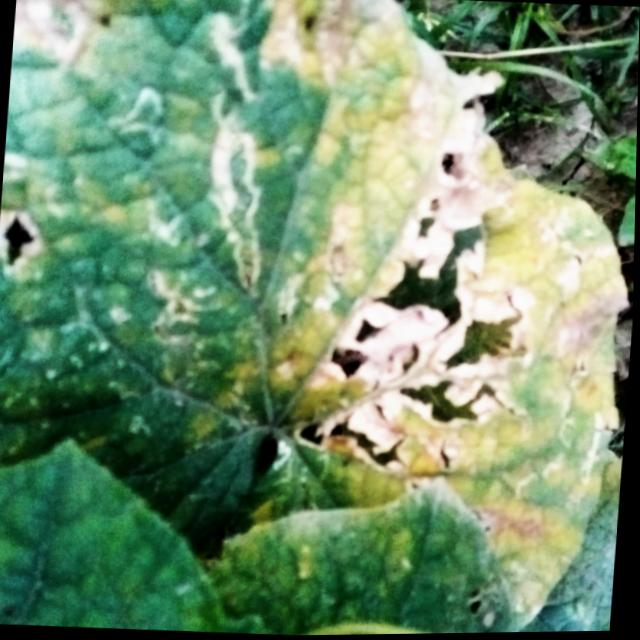Anthracnose: (291, 136, 546, 491), (0, 207, 42, 283)
